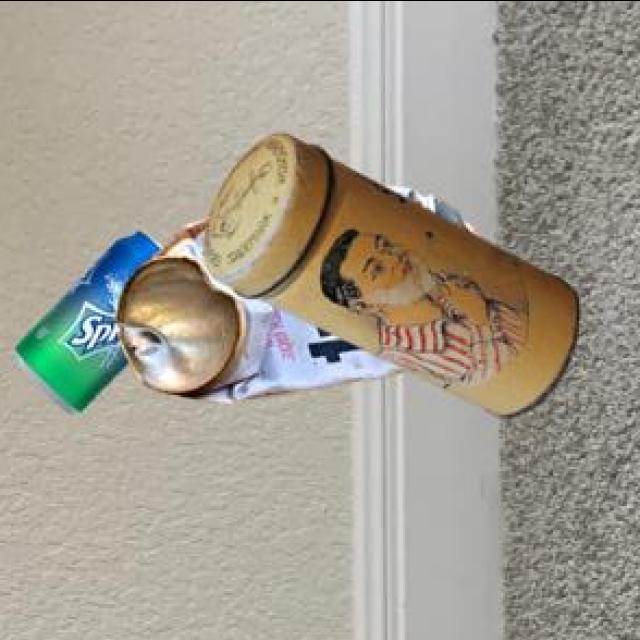logam: (201, 136, 576, 419), (114, 189, 476, 406), (12, 232, 160, 415)
